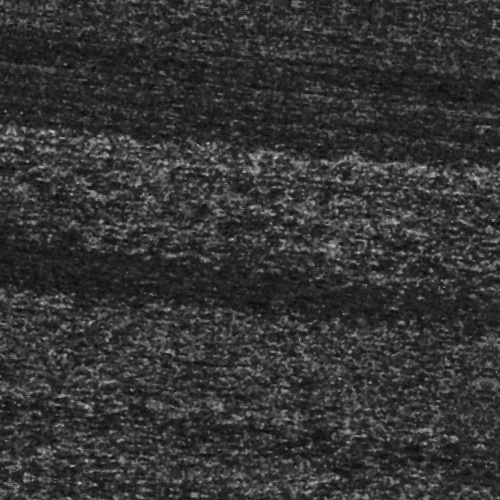object: (228, 363, 259, 366)
shadow: (180, 363, 243, 366)
